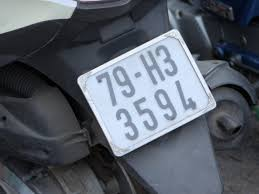Bien-so: (78, 29, 217, 155)
